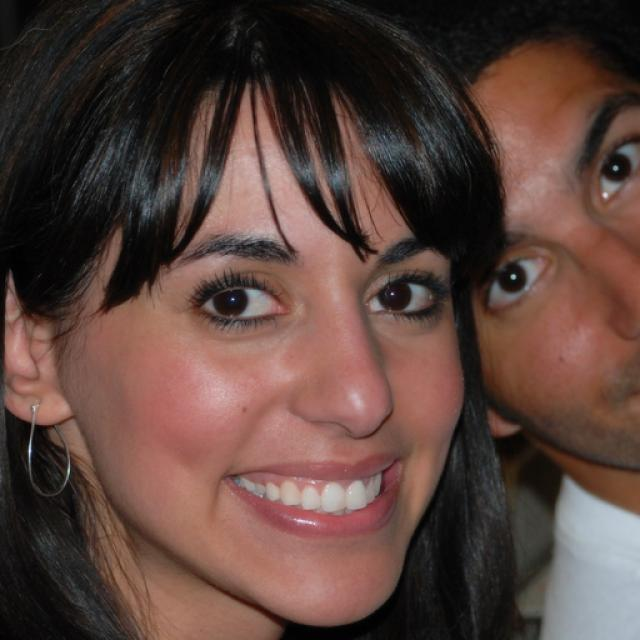happy: (79, 66, 474, 619), (452, 37, 640, 474)
